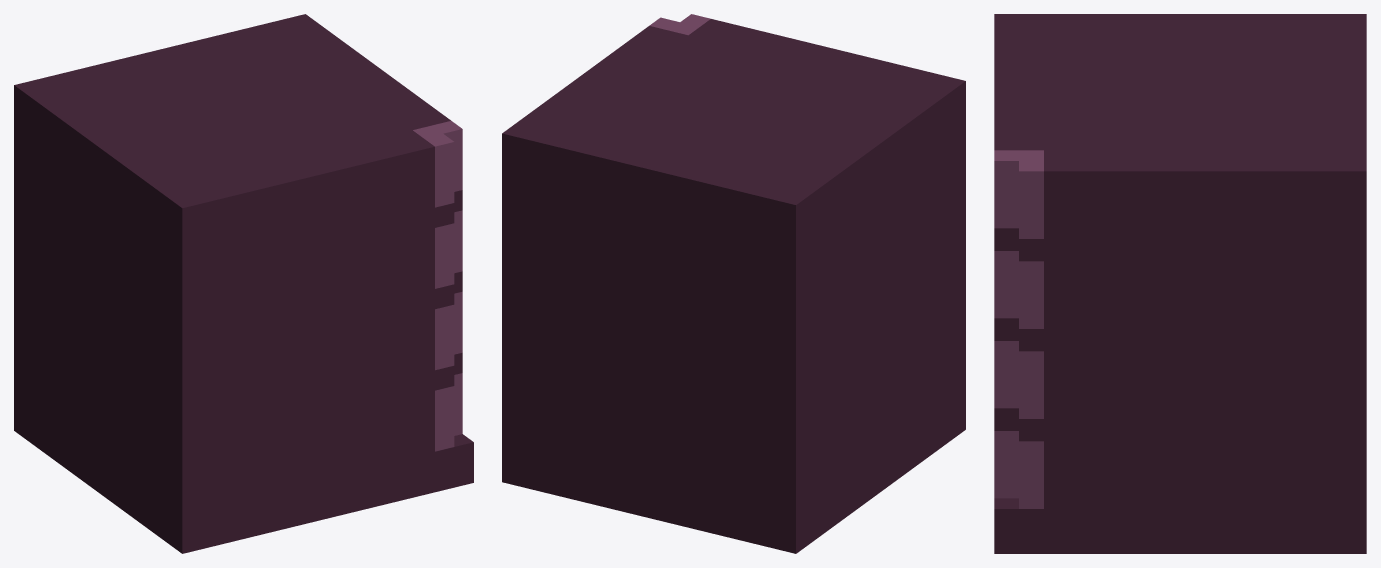
File: dungeon_c_b_outer_wall_corner_d.obj
The picture shows the model from 3 angles, left to right: view 1: azimuth 30°, elevation 25°; view 2: azimuth 150°, elevation 25°; view 3: azimuth 270°, elevation 25°; orthographic projection. The views are drawn at different scales.
Bounding box in the file's own units: 1.5 × 1.7 × 1.5.
Materials: 1 (1 with a texture image).
